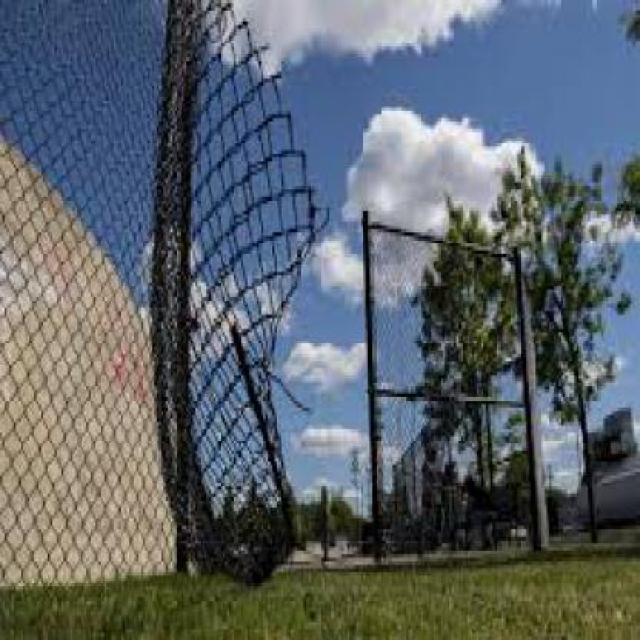fence line: (279, 231, 364, 543)
